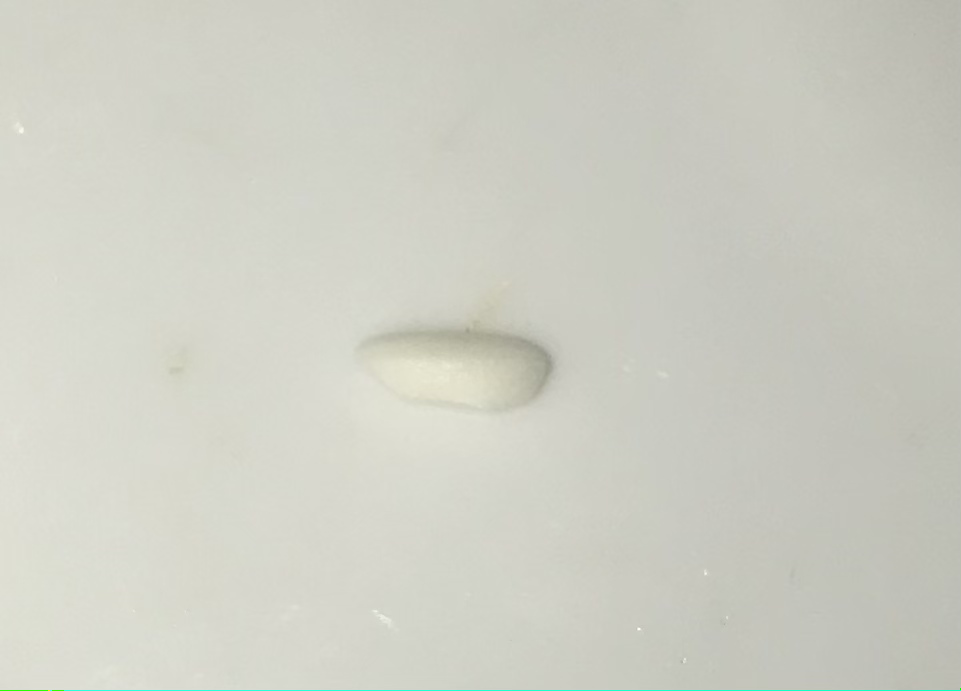Gao Nep Sap: (346, 300, 564, 438)
